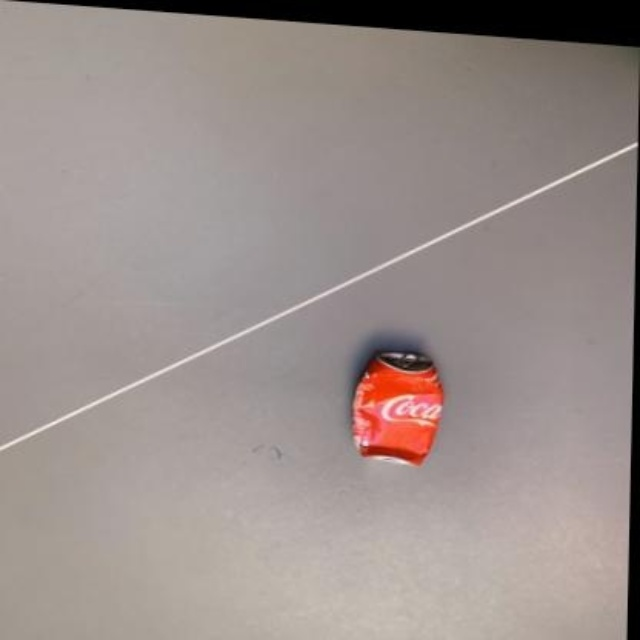trash: (352, 351, 442, 463)
